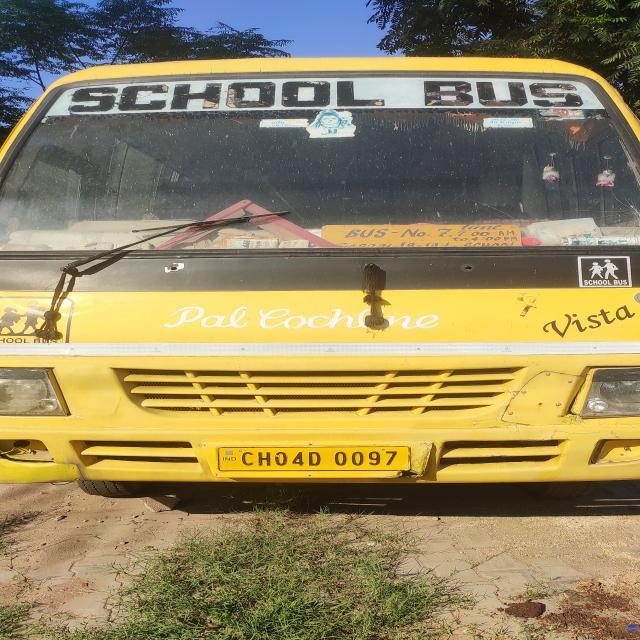Bus: (14, 55, 632, 488)
